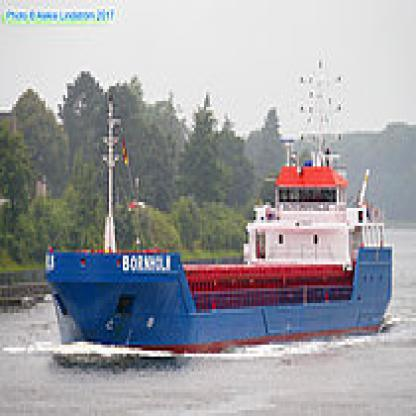Container Ship: (43, 55, 395, 356)
